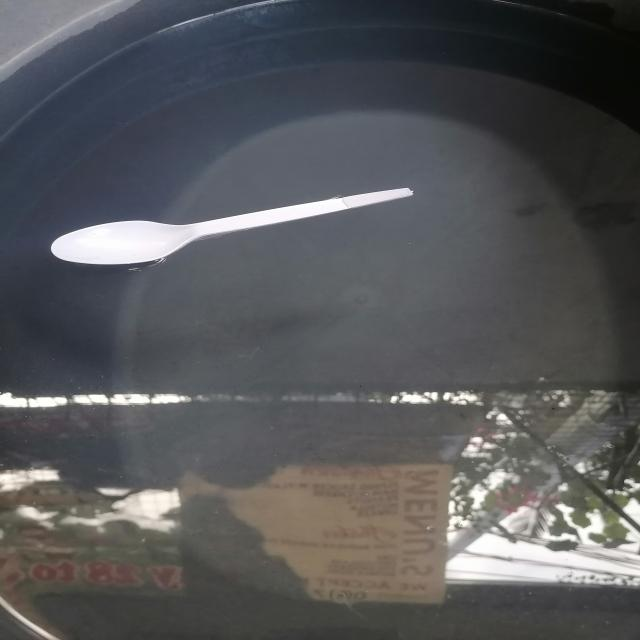Plastic Spoon: (51, 188, 413, 265)
